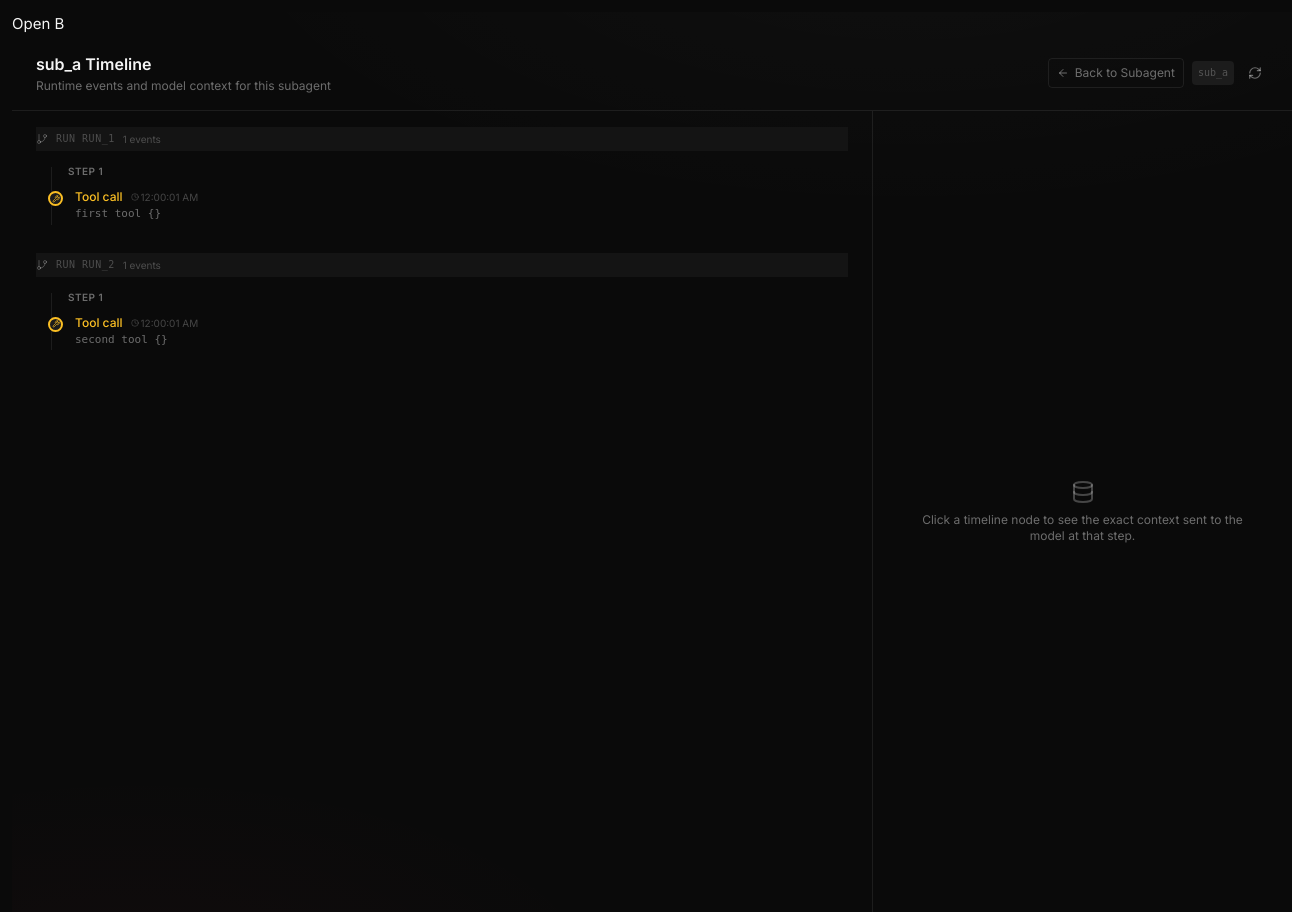
Scenario: Agent timelines › appends new child events and reloads from the start
Expected: the text "second tool {}" is shown, [75,333,168,346]
Expected: the text "first tool {}" is shown once, [75,207,161,220]
Click the button titled "Reload" at (1255, 73), box [1242,60,1268,86]
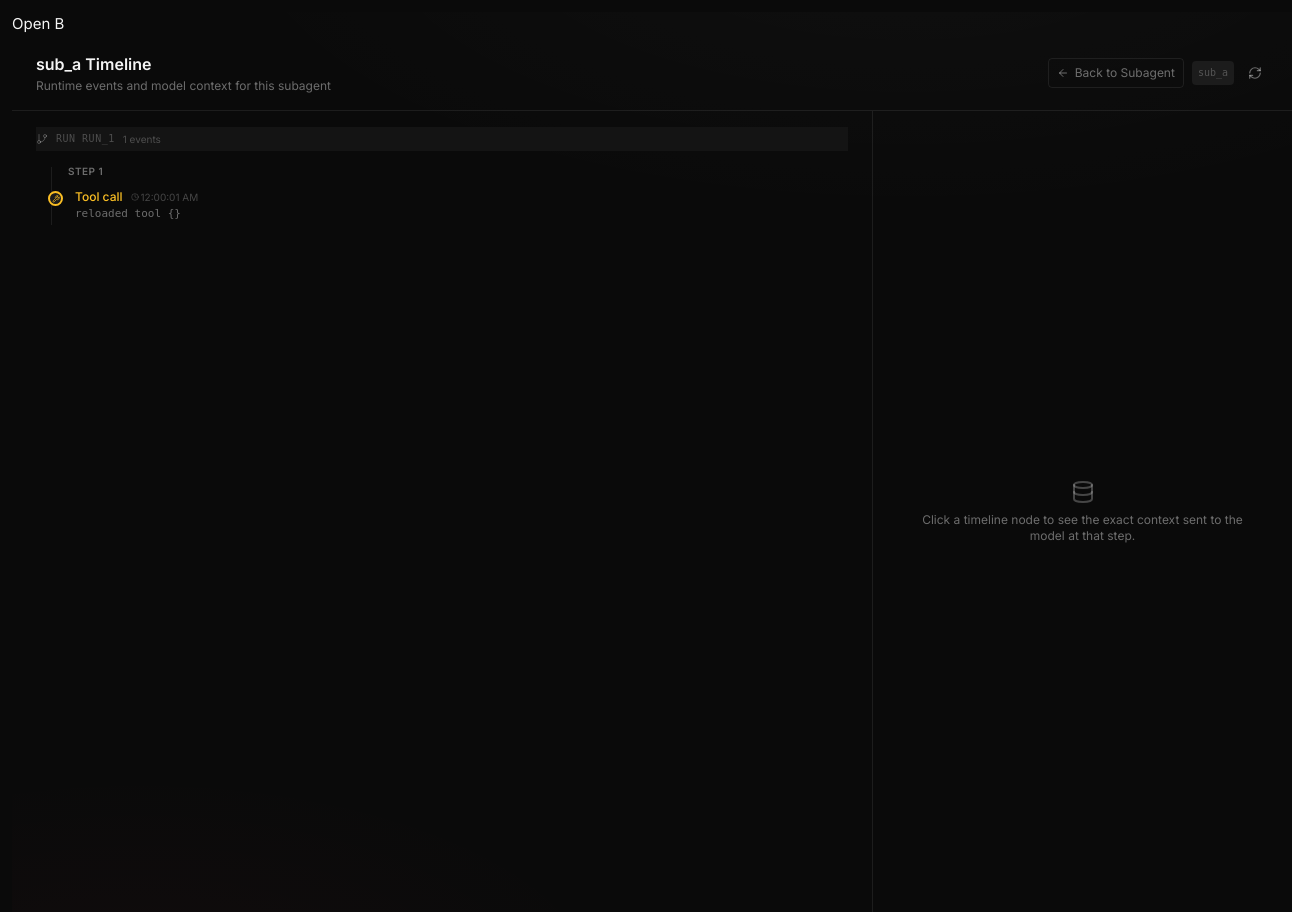
Now the text "reloaded tool {}" is shown, box [75,207,181,220]
Now the button "second tool {}" is gone
